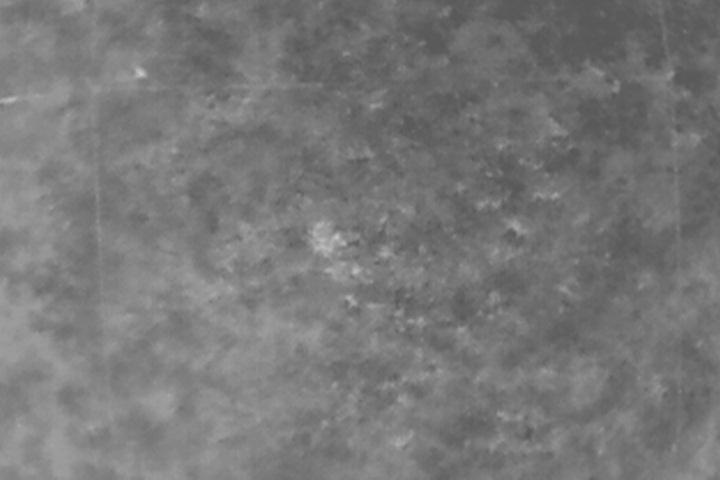landmine: (312, 224, 340, 254)
